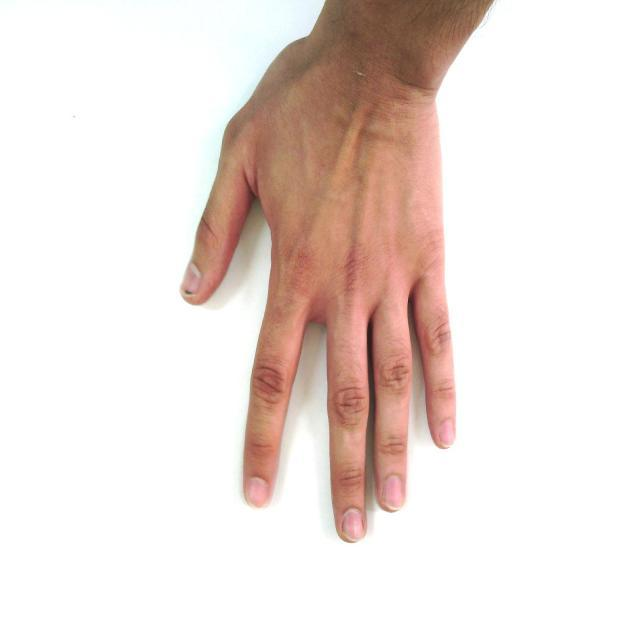Fingernail: (383, 476, 403, 509), (343, 509, 364, 540), (248, 477, 267, 505), (182, 264, 200, 292), (440, 422, 454, 447)
